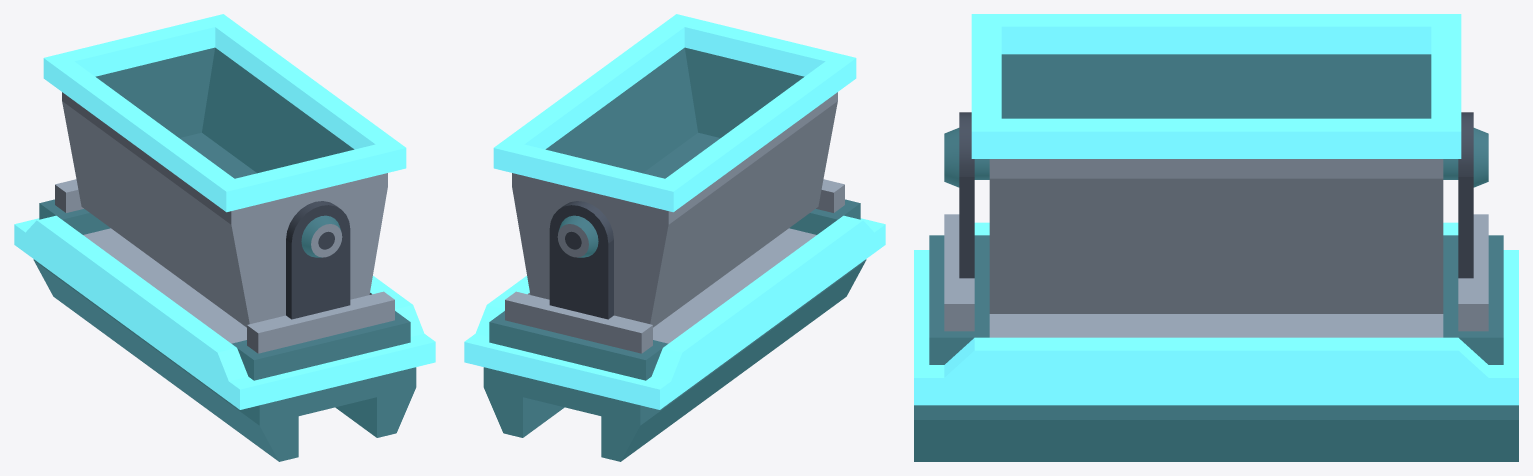
The model's file is monorail_trainCargo.glb.
3 renders of one model, left to right at view 1: azimuth 30°, elevation 25°; view 2: azimuth 150°, elevation 25°; view 3: azimuth 270°, elevation 25°, orthographic. The views are drawn at different scales.
Parts seen in each view (by area): view 1: load, monorail_trainCargo; view 2: load, monorail_trainCargo; view 3: load, monorail_trainCargo.
Part boxes in pixels (left/top/right/bottom): load: left=43, top=14, right=406, bottom=327; monorail_trainCargo: left=14, top=179, right=435, bottom=461; load: left=493, top=14, right=856, bottom=327; monorail_trainCargo: left=464, top=179, right=885, bottom=461; load: left=971, top=14, right=1461, bottom=313; monorail_trainCargo: left=914, top=112, right=1518, bottom=461.
Bounding box in the file's own units: 0.5 × 0.64 × 1.
